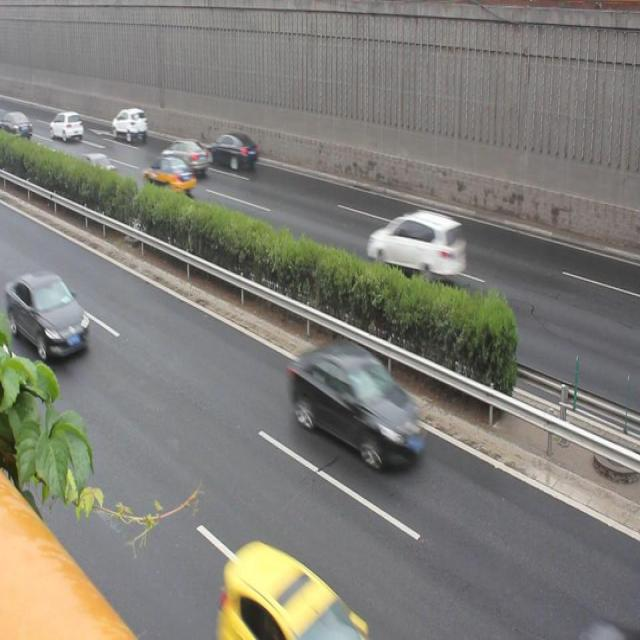car: (289, 338, 427, 469), (218, 540, 366, 640), (367, 207, 468, 285), (11, 270, 92, 366), (145, 154, 196, 200), (207, 128, 257, 174), (165, 139, 213, 175), (77, 147, 117, 185), (110, 106, 149, 144), (51, 108, 84, 144)
